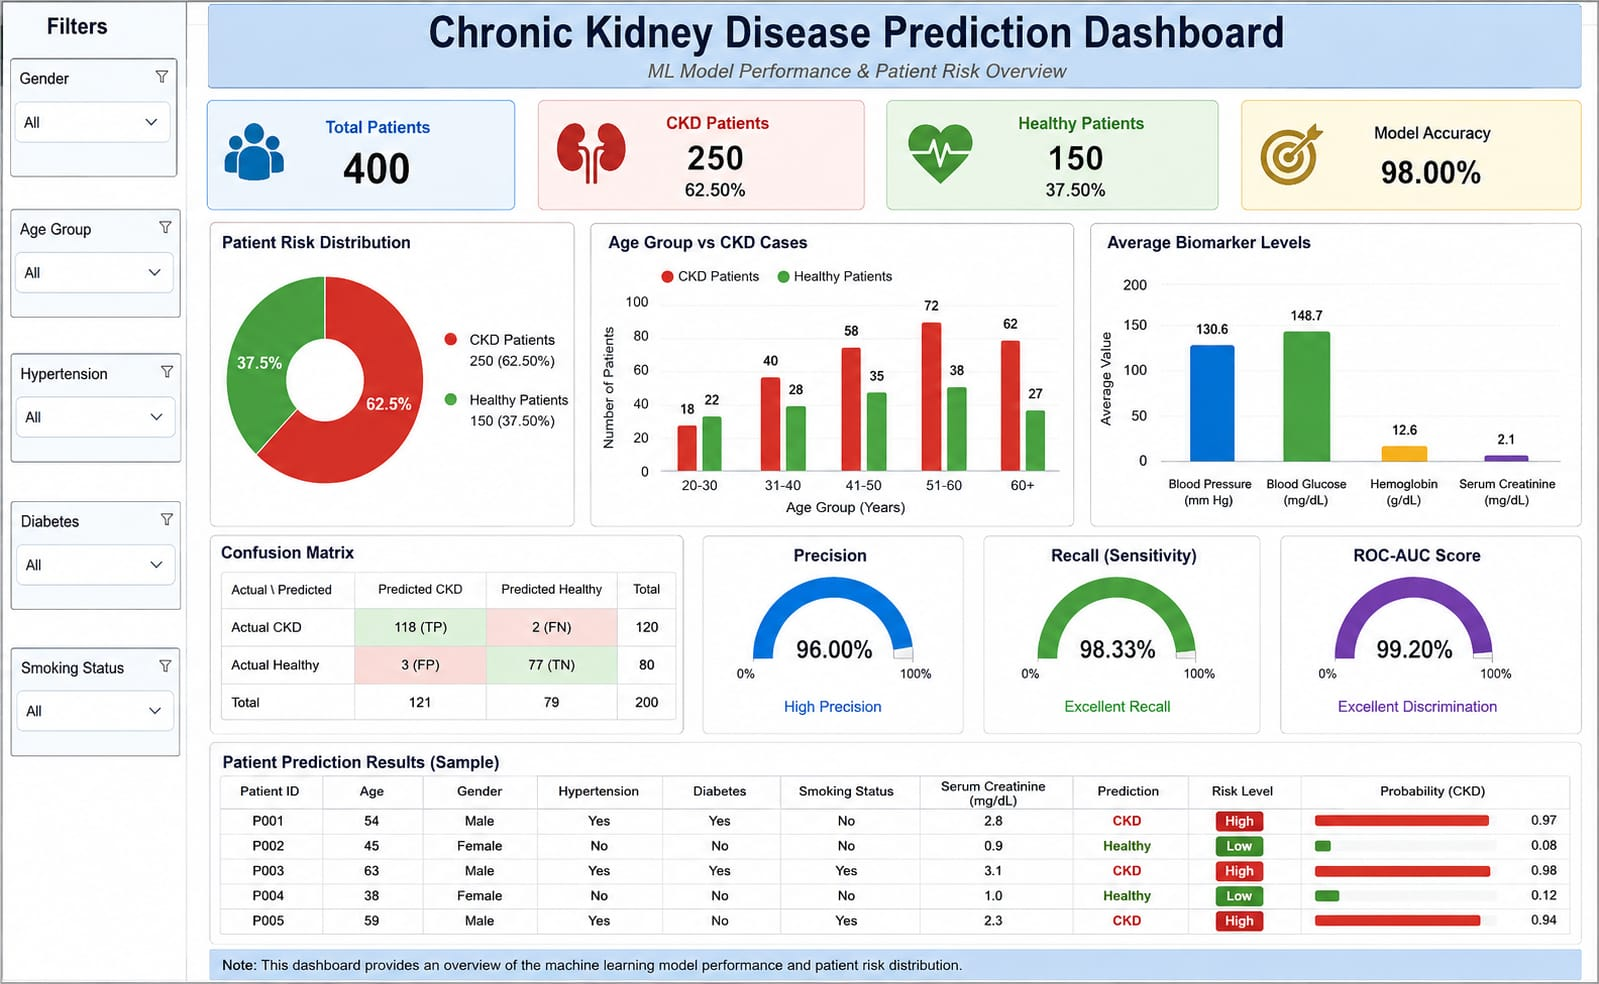

What the dashboard file says about the page in this screenshot:
{"tool":"powerbi","page":{"name":"CKD Prediction Dashboard","canvas":[1280,720],"ordinal":0},"visuals":[{"type":"clusteredColumnChart","title":"CKD vs Non-CKD Distribution","fields":{"Y":["CountNonNull(final_ckd_dataset.classification)"],"Category":["final_ckd_dataset.CKD_Status"]},"box":[20.7,189.3,321.3,187.7],"z":0},{"type":"clusteredColumnChart","title":"Serum Creatinine vs CKD","fields":{"Y":["Avg(final_ckd_dataset.serum_creatinine)"],"Category":["final_ckd_dataset.CKD_Status"]},"box":[738,381.7,370.6,163.8],"z":1000},{"type":"clusteredColumnChart","title":"Average Hemoglobin vs CKD","fields":{"Y":["Avg(final_ckd_dataset.hemoglobin)"],"Category":["final_ckd_dataset.CKD_Status"]},"box":[738,189.3,370.6,187.7],"z":2000},{"type":"clusteredColumnChart","title":"Average Blood Pressure vs CKD","fields":{"Y":["Avg(final_ckd_dataset.blood_pressure)"],"Category":["final_ckd_dataset.CKD_Status"]},"box":[353.1,189.3,364.2,187.7],"z":3000},{"type":"clusteredBarChart","title":"Top Features Affecting CKD","fields":{"Category":["feature_importance.Feature"],"Y":["Sum(feature_importance.Importance)"]},"box":[20.7,388.1,321.3,314.9],"z":4000},{"type":"pivotTable","title":"Model Confusion Matrix","fields":{"Rows":["model_predictions.Actual_Label"],"Columns":["model_predictions.Predicted_label"],"Values":["CountNonNull(model_predictions.Predicted_label)"]},"box":[738,563.1,370.6,140],"z":5000},{"type":"clusteredColumnChart","title":"Age Distribution of Patients","fields":{"Category":["final_ckd_dataset.age"],"Y":["CountNonNull(final_ckd_dataset.age)"]},"box":[353.1,388.1,364.2,314.9],"z":6000},{"type":"cardVisual","title":"Total Patients","fields":{"Data":["CountNonNull(final_ckd_dataset.classification)"]},"box":[20.7,74.8,238.6,105],"z":7000},{"type":"cardVisual","title":"CKD Patients","fields":{"Data":["CountNonNull(final_ckd_dataset.classification)"]},"box":[270.4,74.8,243.4,108.2],"z":8000},{"type":"cardVisual","title":"Non-CKD Patients","fields":{"Data":["CountNonNull(final_ckd_dataset.classification)"]},"box":[518.5,74.8,243.4,105],"z":9000},{"type":"slicer","fields":{"Values":["final_ckd_dataset.CKD_Status"]},"box":[774.6,76.3,251.3,101.8],"z":10000},{"type":"image","box":[151.1,98.6,95.4,66.8],"z":11000},{"type":"image","box":[392.9,87.5,108.2,87.5],"z":12000},{"type":"image","box":[653.7,79.5,84.3,95.4],"z":13000},{"type":"image","box":[913,82.7,97,87.5],"z":14000},{"type":"textbox","box":[0,0,1280.4,70],"z":15000}]}

Visuals, with their boxes on the page's 1280x720 design canvas (x1, y1, x2, y2). These are canvas units, not pixel positions in the 1599x984 screenshot, which may show the page scaled, cropped or inside an application window:
"CKD vs Non-CKD Distribution" clusteredColumnChart: x1=21, y1=189, x2=342, y2=377
"Serum Creatinine vs CKD" clusteredColumnChart: x1=738, y1=382, x2=1109, y2=546
"Average Hemoglobin vs CKD" clusteredColumnChart: x1=738, y1=189, x2=1109, y2=377
"Average Blood Pressure vs CKD" clusteredColumnChart: x1=353, y1=189, x2=717, y2=377
"Top Features Affecting CKD" clusteredBarChart: x1=21, y1=388, x2=342, y2=703
"Model Confusion Matrix" pivotTable: x1=738, y1=563, x2=1109, y2=703
"Age Distribution of Patients" clusteredColumnChart: x1=353, y1=388, x2=717, y2=703
"Total Patients" cardVisual: x1=21, y1=75, x2=259, y2=180
"CKD Patients" cardVisual: x1=270, y1=75, x2=514, y2=183
"Non-CKD Patients" cardVisual: x1=518, y1=75, x2=762, y2=180
slicer - final_ckd_dataset.CKD_Status: x1=775, y1=76, x2=1026, y2=178
image: x1=151, y1=99, x2=246, y2=165
image: x1=393, y1=88, x2=501, y2=175
image: x1=654, y1=80, x2=738, y2=175
image: x1=913, y1=83, x2=1010, y2=170
textbox: x1=0, y1=0, x2=1280, y2=70
